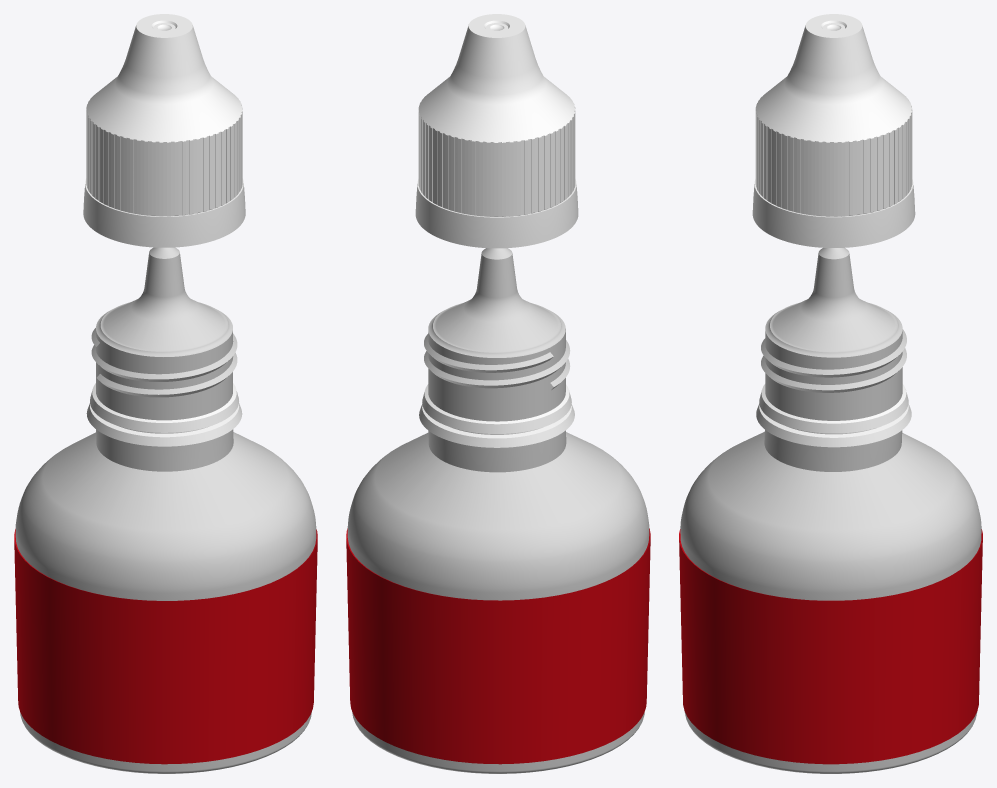
3 views of the same model, side by side, from view 1: azimuth 30°, elevation 25°; view 2: azimuth 150°, elevation 25°; view 3: azimuth 270°, elevation 25° (orthographic).
Visible parts, largest first — view 1: bottle, sign, lid, small ring; view 2: bottle, sign, lid, small ring; view 3: bottle, sign, lid, small ring.
Boxes of the visible parts, bbox=[...] form: bottle: bbox=[15, 247, 316, 773]; sign: bbox=[14, 529, 317, 764]; lid: bbox=[83, 14, 245, 247]; small ring: bbox=[86, 383, 242, 446]; bottle: bbox=[347, 248, 649, 773]; sign: bbox=[346, 528, 650, 764]; lid: bbox=[415, 14, 578, 248]; small ring: bbox=[419, 384, 574, 447]; bottle: bbox=[680, 248, 981, 773]; sign: bbox=[679, 529, 982, 764]; lid: bbox=[752, 14, 915, 247]; small ring: bbox=[756, 384, 911, 447].
Bounding box in the file's own units: 0.0186 × 0.0464 × 0.0186.
